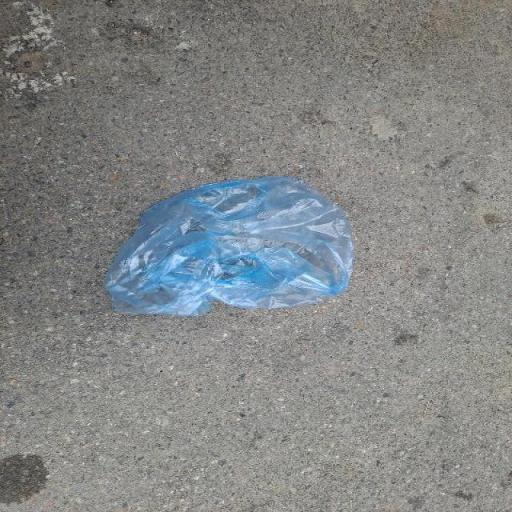plastic-bag: (99, 173, 363, 320)
